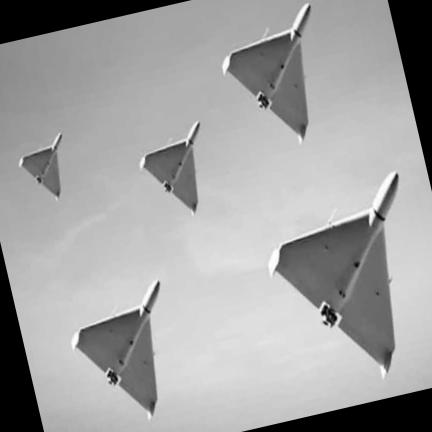Shahed: (268, 172, 398, 377), (222, 4, 310, 143), (71, 280, 159, 419), (139, 122, 199, 214), (19, 133, 61, 199)
